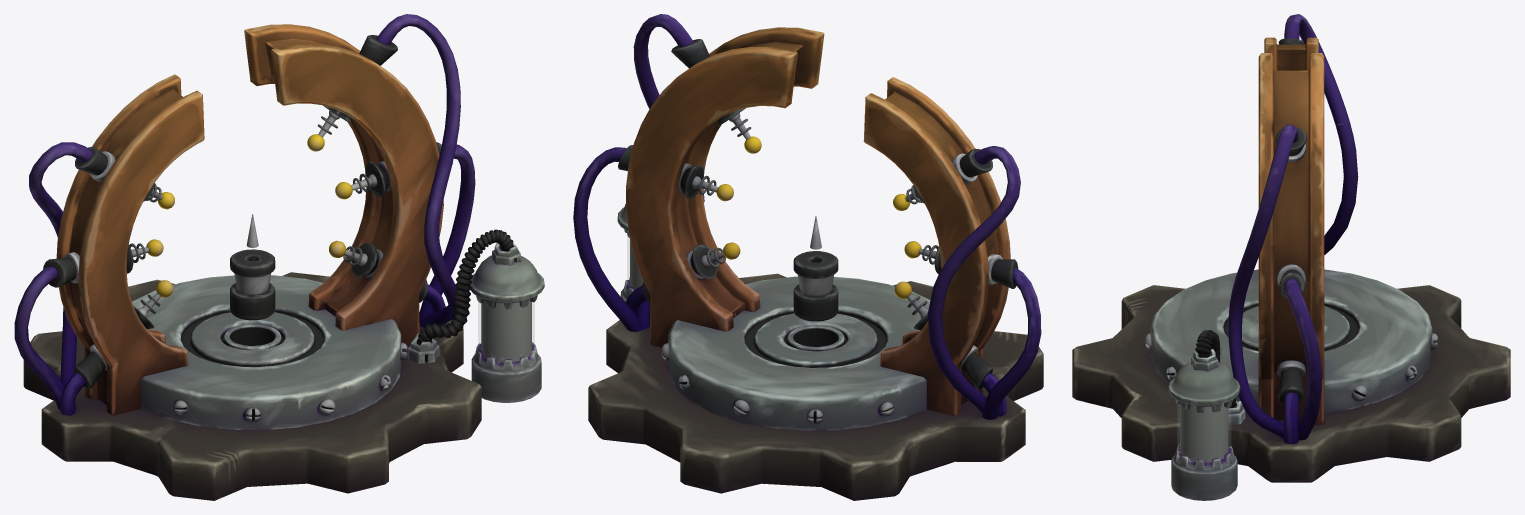
The model's file is Hub_Portal_v2.fbx.
3 views of the same model, side by side, from view 1: azimuth 30°, elevation 25°; view 2: azimuth 150°, elevation 25°; view 3: azimuth 270°, elevation 25° (orthographic). The views are drawn at different scales.
Visible parts, largest first — view 1: portal_platform, goo_tank, goo_tank_glass, portal_needle_base, goo; view 2: portal_platform, portal_needle_base; view 3: portal_platform, goo_tank, goo_tank_glass, goo.
Boxes of the visible parts, x1,y1,x2,y2 form: portal_platform: (14,14,481,500); goo_tank: (408,229,544,402); goo_tank_glass: (478,299,534,362); portal_needle_base: (230,249,275,320); goo: (481,299,531,362); portal_platform: (573,14,1043,500); portal_needle_base: (793,251,838,321); portal_platform: (1072,14,1510,482); goo_tank: (1168,330,1245,500); goo_tank_glass: (1177,403,1230,462); goo: (1180,403,1228,462).
Size of the model in its own units: 363 by 267 by 309.
Materials: 2 (1 with a texture image).
